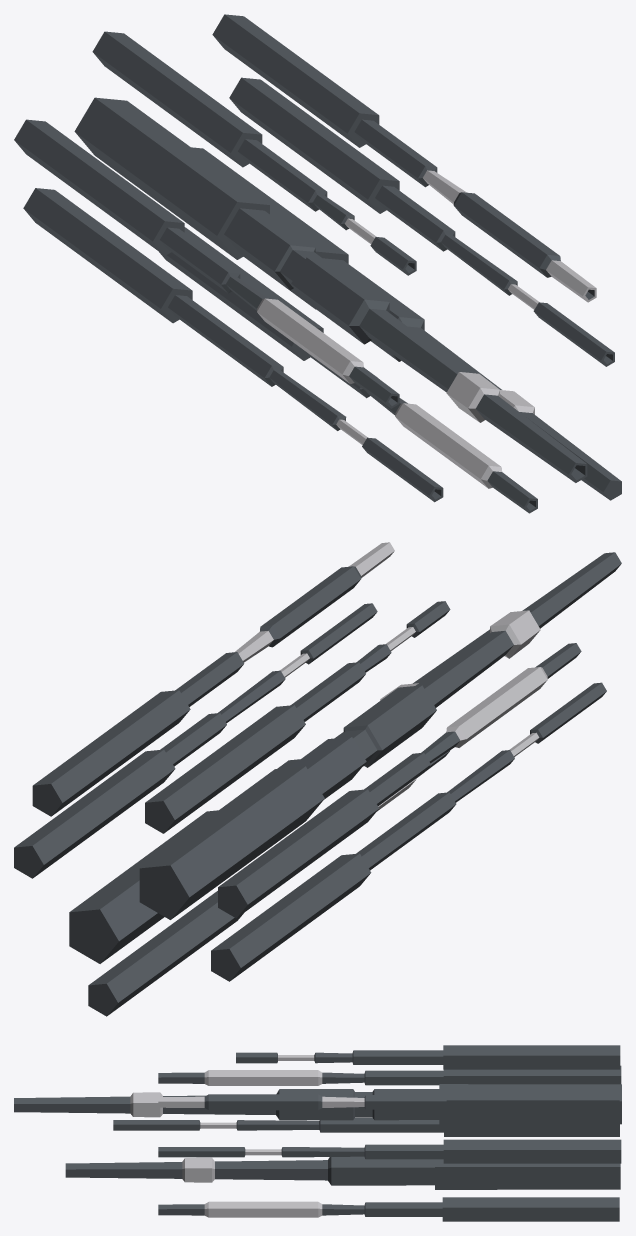
The model's file is Dropship_05_Artillery.fbx.
The picture shows the model from 3 angles, top to bottom: view 1: azimuth 30°, elevation 25°; view 2: azimuth 150°, elevation 25°; view 3: azimuth 270°, elevation 25°; orthographic projection. The views are drawn at different scales.
Visible parts, largest first — view 1: Dropship_05_Artillery; view 2: Dropship_05_Artillery; view 3: Dropship_05_Artillery.
Boxes of the visible parts, x1=… form: Dropship_05_Artillery: x1=14, y1=14, x2=621, y2=513; Dropship_05_Artillery: x1=14, y1=542, x2=621, y2=1016; Dropship_05_Artillery: x1=14, y1=1045, x2=621, y2=1221.
Size of the model in its own units: 197 by 185 by 657.
Materials: 1 (1 with a texture image).
